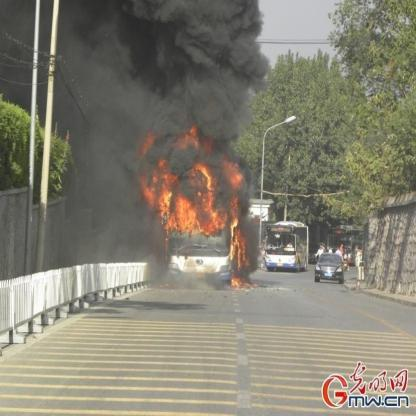fire: (140, 138, 252, 291)
smoke: (1, 3, 254, 207)
